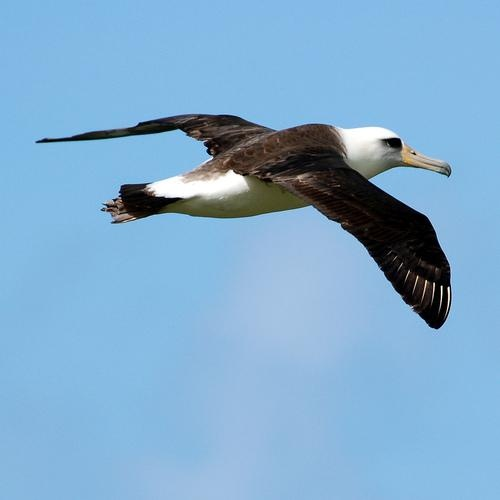bird: (32, 110, 456, 337)
